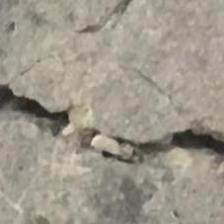Crack: (0, 81, 224, 189)
